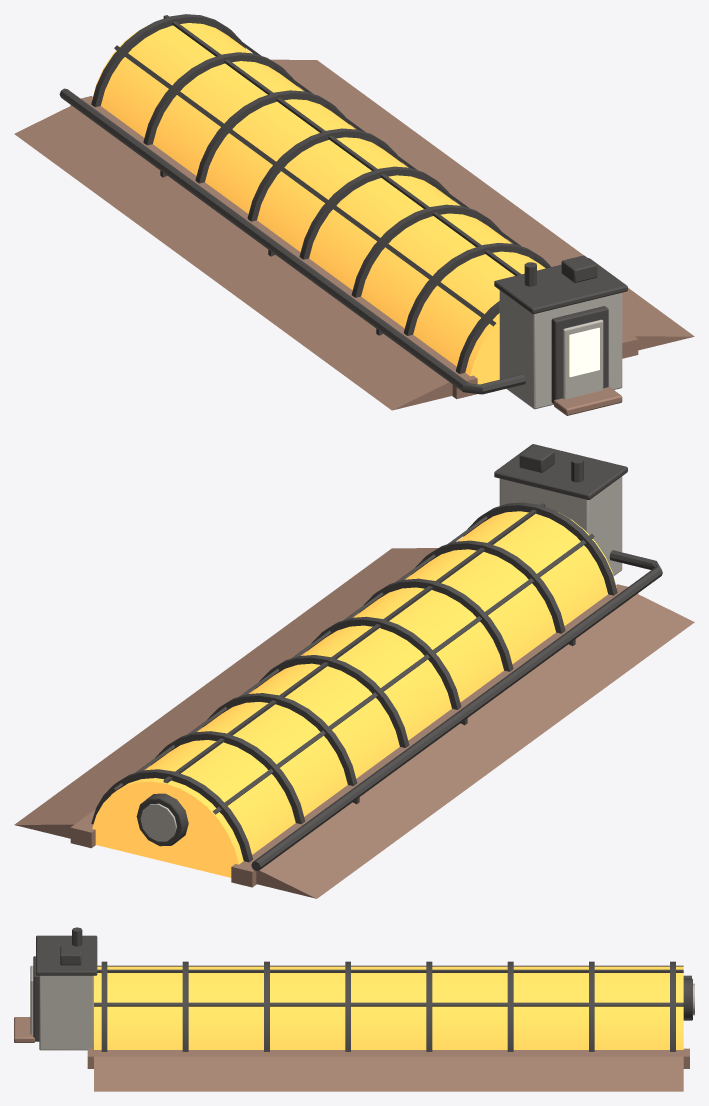
Rendered from crop_tube_gold.glb.
3 views of the same model, one above another, from view 1: azimuth 30°, elevation 25°; view 2: azimuth 150°, elevation 25°; view 3: azimuth 270°, elevation 25° (orthographic). The views are drawn at different scales.
Visible parts, largest first — view 1: crop_tube_gold; view 2: crop_tube_gold; view 3: crop_tube_gold.
Part boxes in pixels (x1,y1,x2,y2): crop_tube_gold: (14,14,694,415); crop_tube_gold: (14,444,694,898); crop_tube_gold: (14,927,694,1091).
Bounding box in the file's own units: 6.48 × 2.51 × 16.17.
